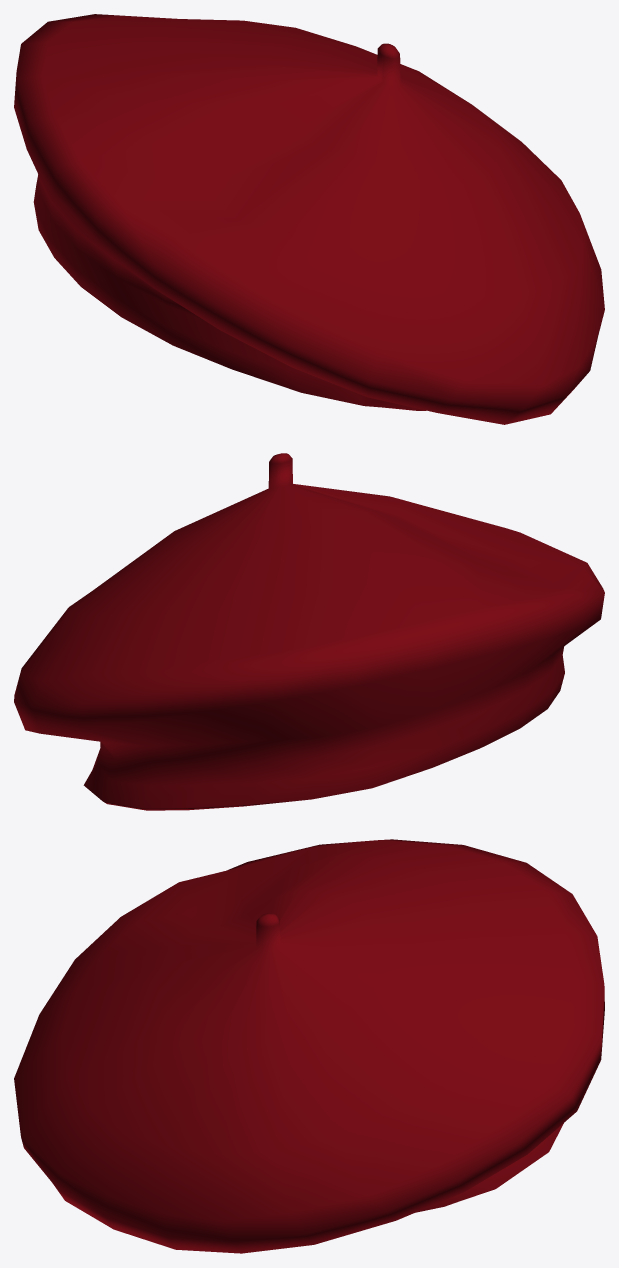
File: Beret.glb
The picture shows the model from 3 angles, top to bottom: view 1: azimuth 30°, elevation 25°; view 2: azimuth 150°, elevation 25°; view 3: azimuth 270°, elevation 25°; orthographic projection. The views are drawn at different scales.
Parts seen in each view (by area): view 1: Beret; view 2: Beret; view 3: Beret.
Boxes of the visible parts, x1=… form: Beret: x1=14, y1=14, x2=604, y2=424; Beret: x1=14, y1=453, x2=604, y2=810; Beret: x1=14, y1=839, x2=604, y2=1253.
Bounding box in the file's own units: 1.05 × 0.6058 × 1.19.
Materials: 1 (1 with a texture image).
